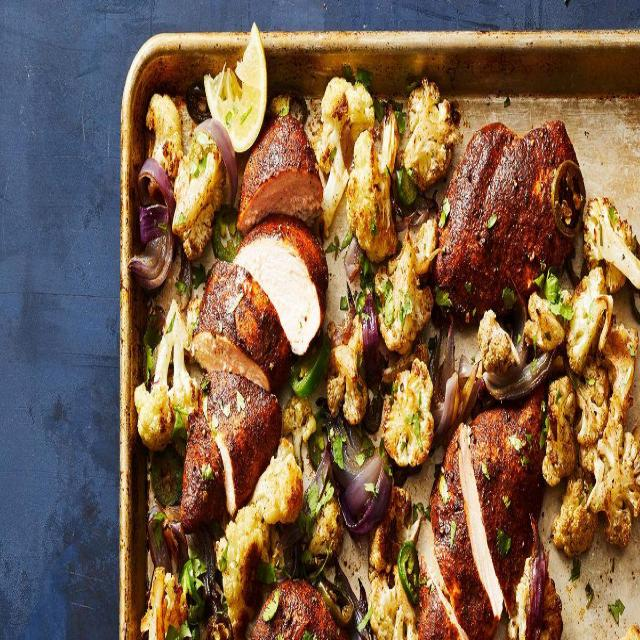chicken: (136, 83, 640, 628)
